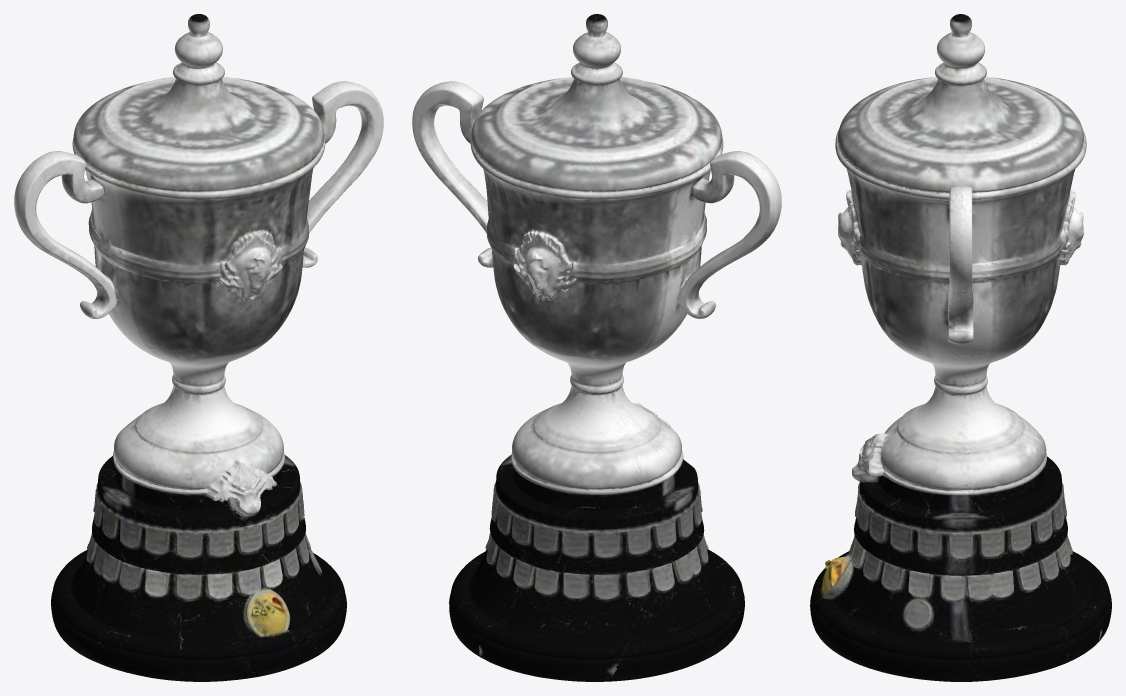
Rendered from egypt-cup.mobile.glb.
3 renders of one model, left to right at view 1: azimuth 30°, elevation 25°; view 2: azimuth 150°, elevation 25°; view 3: azimuth 270°, elevation 25°, orthographic.
Visible parts, largest first — view 1: mesh_node; view 2: mesh_node; view 3: mesh_node.
Part boxes in pixels (bbox=[...]): mesh_node: bbox=[14, 14, 383, 681]; mesh_node: bbox=[412, 14, 781, 681]; mesh_node: bbox=[810, 14, 1111, 681].
Size of the model in its own units: 1.19 by 1.9 by 0.8554.
1 material, 1 textured.
